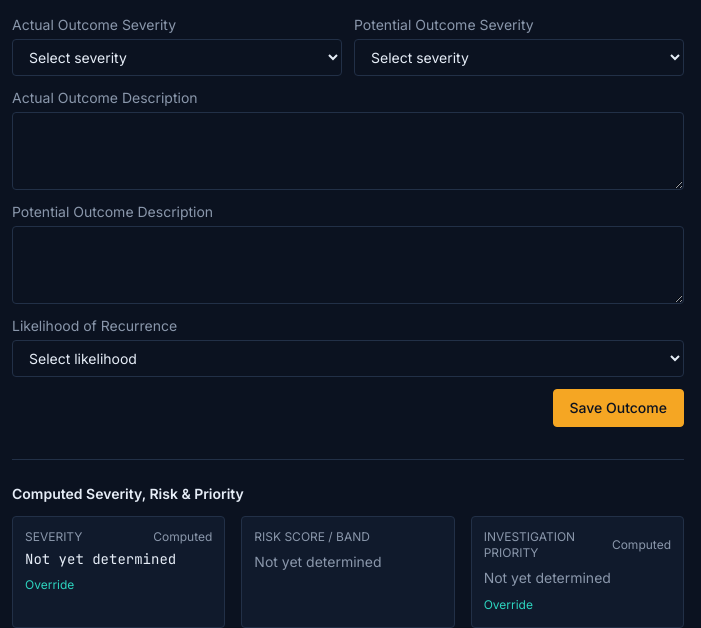
Scenario: ClassificationPanel — Override toggle › toggles between Severity and Investigation Priority override forms independently
This screenshot has width=701, height=628.
(page scrolled)
Click the button "Override" below "Investigation Priority".
click(508, 605)  # box x1=484 y1=597 x2=533 y2=613
(page scrolled)
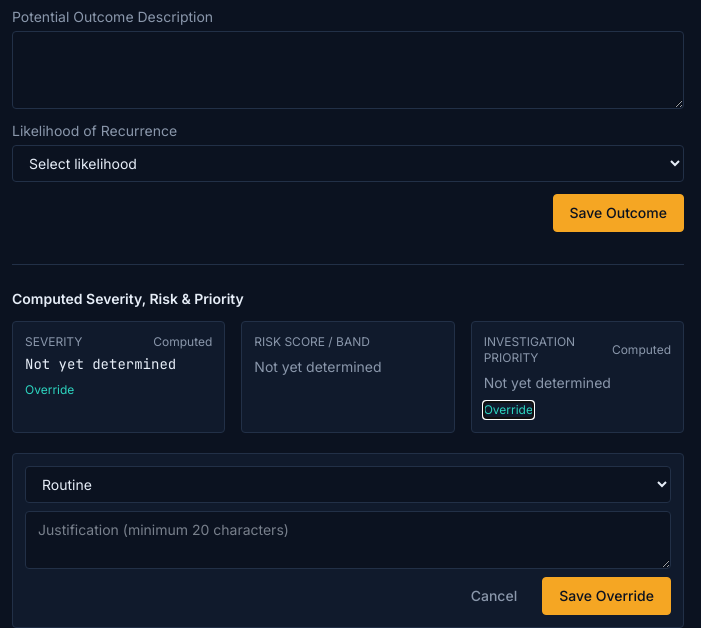
Check: the dropdown named "priorityValue" is shown, box x1=25 y1=466 x2=671 y2=503
